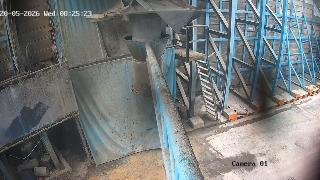swing_chute: (125, 34, 170, 100)
